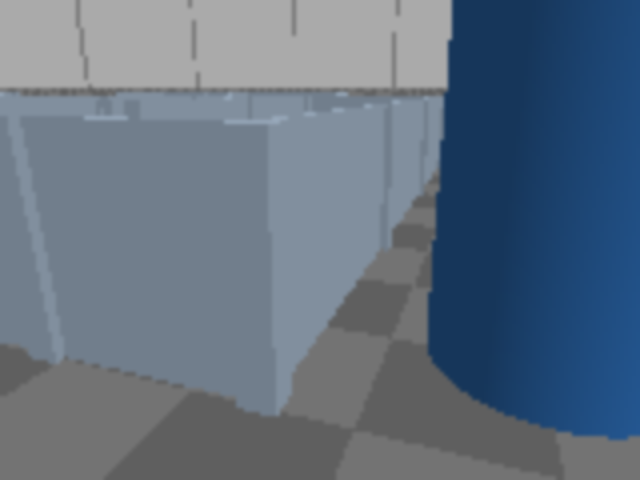person: (427, 0, 638, 432)
